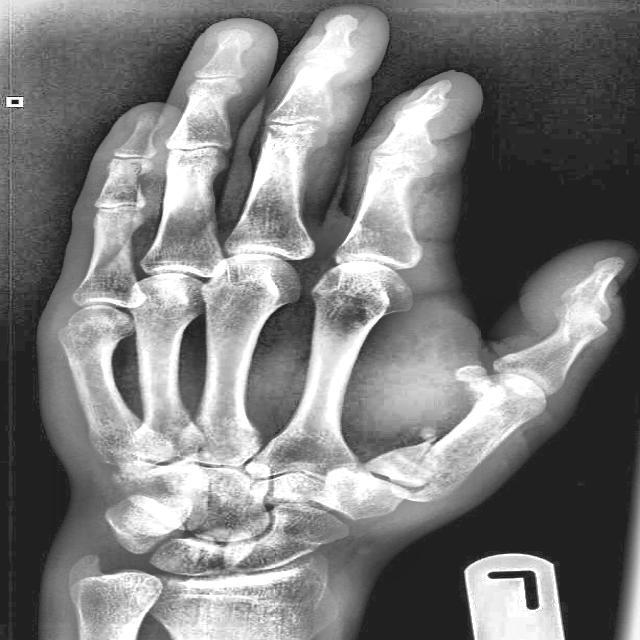fracture: (359, 437, 446, 497)
